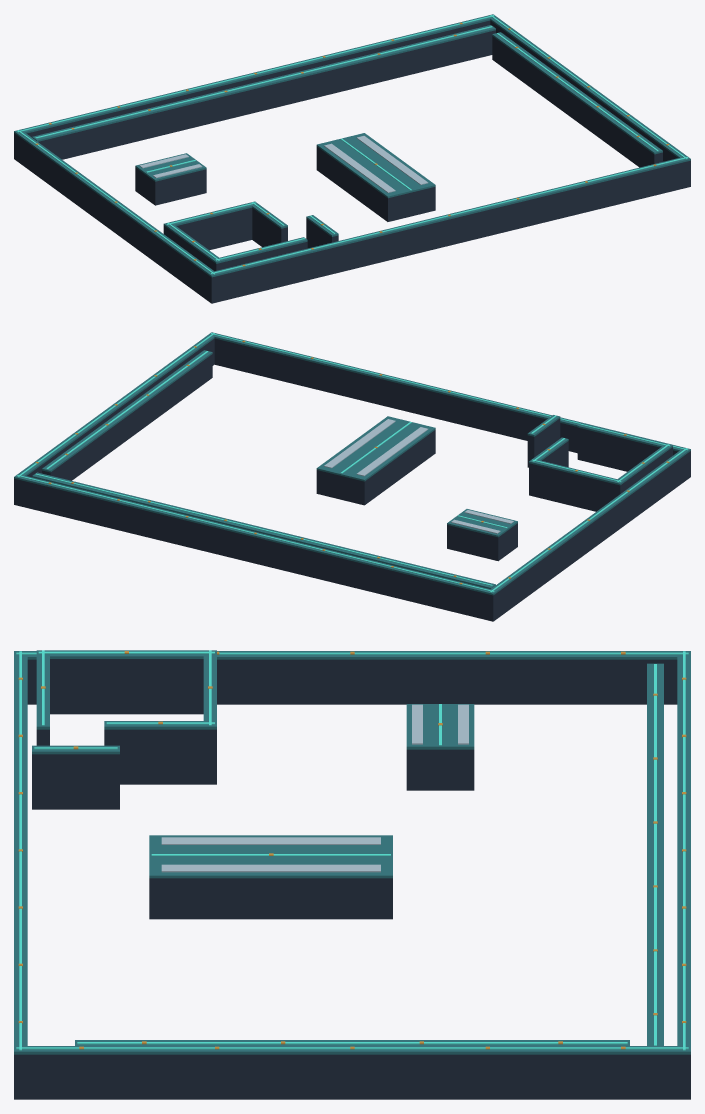
Rendered from campaign_reactor.runtime.gltf.
The picture shows the model from 3 angles, top to bottom: view 1: azimuth 30°, elevation 25°; view 2: azimuth 150°, elevation 25°; view 3: azimuth 270°, elevation 25°; orthographic projection. The views are drawn at different scales.
Parts seen in each view (by area): view 1: BATCH material 0, BATCH material 1, BATCH material 3, BATCH material 2; view 2: BATCH material 0, BATCH material 1, BATCH material 3, BATCH material 2; view 3: BATCH material 0, BATCH material 1, BATCH material 3, BATCH material 2.
Part boxes in pixels (x1,y1,x2,y2): BATCH material 0: (14, 20, 690, 303); BATCH material 1: (14, 14, 690, 277); BATCH material 3: (16, 15, 688, 274); BATCH material 2: (139, 136, 428, 192); BATCH material 0: (14, 338, 690, 621); BATCH material 1: (14, 332, 690, 595); BATCH material 3: (16, 333, 688, 592); BATCH material 2: (324, 419, 513, 533); BATCH material 0: (14, 659, 690, 1099); BATCH material 1: (14, 650, 690, 1054); BATCH material 3: (16, 650, 688, 1050); BATCH material 2: (161, 704, 468, 872).
Bounding box in the file's own units: 21 × 1.45 × 15.
